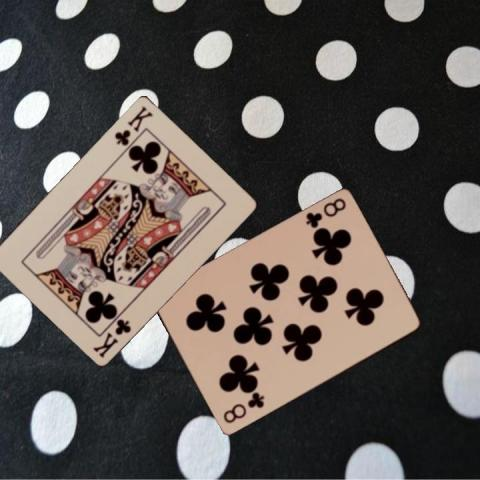8c: (220, 390, 266, 425), (303, 195, 347, 230)
Kc: (89, 314, 133, 358), (111, 102, 154, 147)
